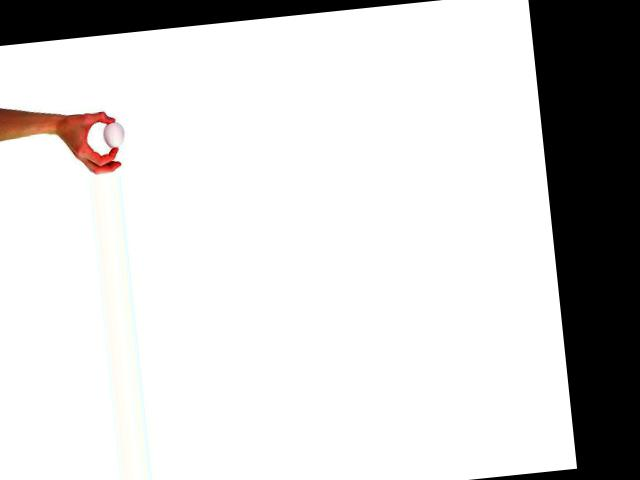egg: (101, 120, 125, 148)
